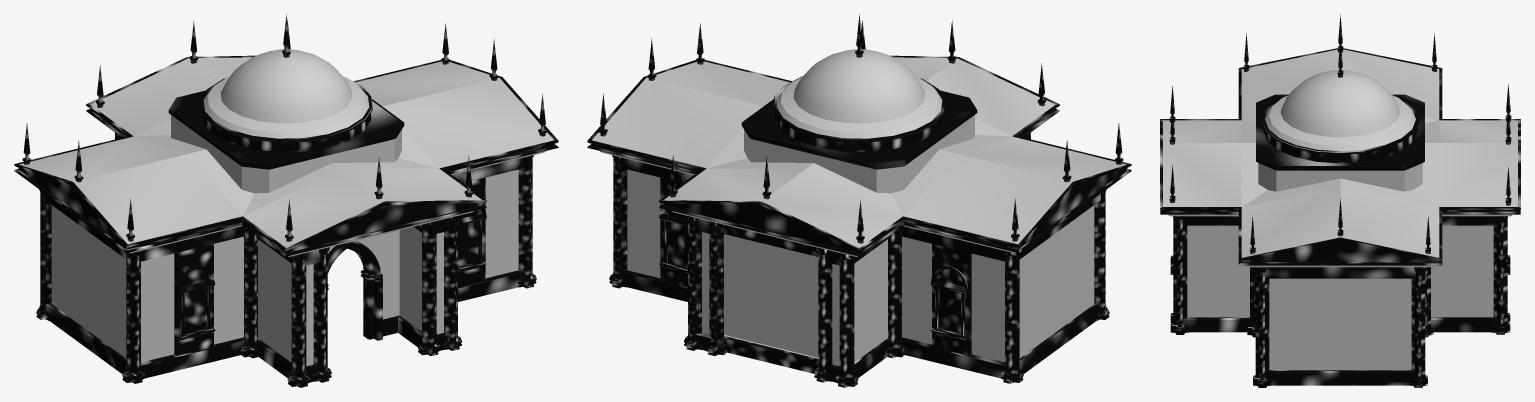
File: Mausoleum_Hat.fbx
3 renders of one model, left to right at view 1: azimuth 30°, elevation 25°; view 2: azimuth 150°, elevation 25°; view 3: azimuth 270°, elevation 25°, orthographic. The views are drawn at different scales.
Parts seen in each view (by area): view 1: mausoleum_Hat; view 2: mausoleum_Hat; view 3: mausoleum_Hat.
Boxes of the visible parts, box(x1,y1,x2,y2) form: mausoleum_Hat: box(14, 14, 558, 387); mausoleum_Hat: box(587, 14, 1131, 387); mausoleum_Hat: box(1160, 14, 1520, 387).
Bounding box in the file's own units: 26.71 × 16.89 × 21.3.
